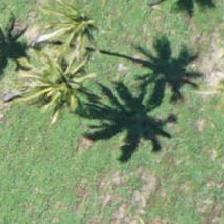coconut_tree: (16, 40, 106, 130), (29, 0, 119, 70)
